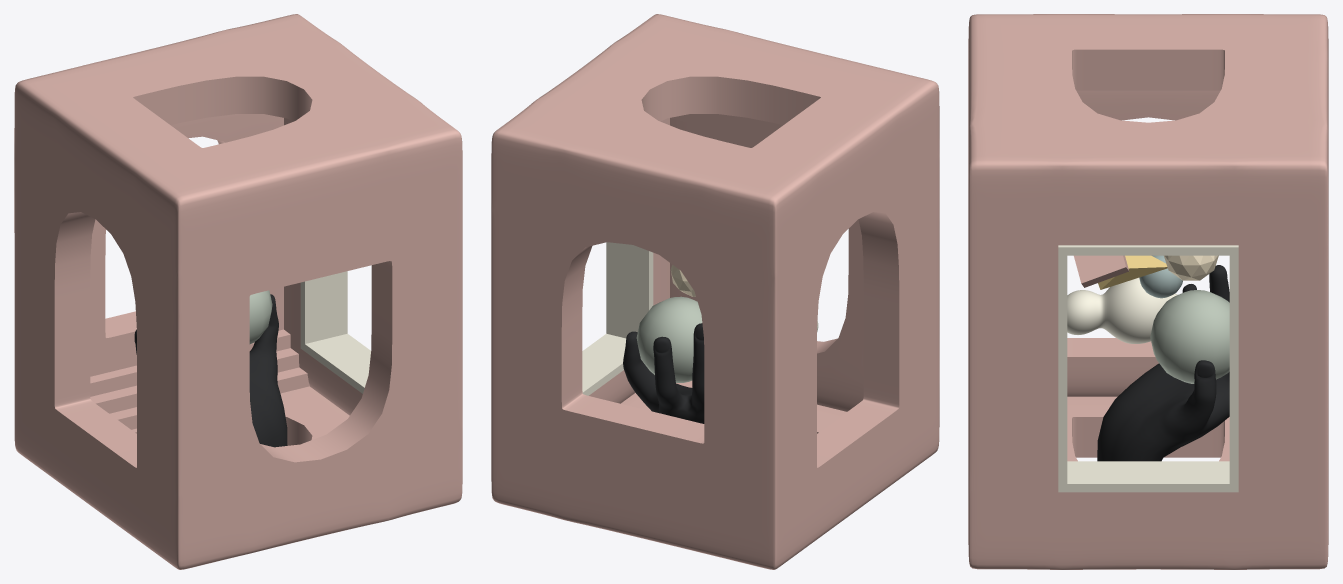
Rendered from OweRagnarMartirezRoom.glb.
3 renders of one model, left to right at view 1: azimuth 30°, elevation 25°; view 2: azimuth 150°, elevation 25°; view 3: azimuth 270°, elevation 25°, orthographic. The views are drawn at different scales.
Visible parts, largest first — view 1: room, window, Hand, stair, Sphere; view 2: room, window, Hand, Sphere, stair.001; view 3: room, window, Hand, Sphere, Sphere.002, Cube, Icosphere, Cone, Sphere.001.
Boxes of the visible parts, left/top/right/bottom form: room: left=14, top=14, right=462, bottom=569; window: left=300, top=271, right=370, bottom=393; Hand: left=134, top=294, right=287, bottom=447; stair: left=90, top=329, right=309, bottom=429; Sphere: left=249, top=290, right=272, bottom=344; room: left=491, top=14, right=939, bottom=569; window: left=582, top=242, right=653, bottom=395; Hand: left=623, top=323, right=704, bottom=423; Sphere: left=636, top=296, right=702, bottom=382; stair.001: left=670, top=114, right=782, bottom=140; room: left=968, top=14, right=1328, bottom=569; window: left=1058, top=245, right=1238, bottom=492; Hand: left=1097, top=265, right=1229, bottom=461; Sphere: left=1150, top=290, right=1229, bottom=383; Sphere.002: left=1067, top=277, right=1177, bottom=343; Cube: left=1074, top=255, right=1129, bottom=287; Icosphere: left=1164, top=255, right=1218, bottom=280; Cone: left=1098, top=255, right=1167, bottom=289; Sphere.001: left=1139, top=255, right=1182, bottom=298.
Bounding box in the file's own units: 4.05 × 5.75 × 4.
